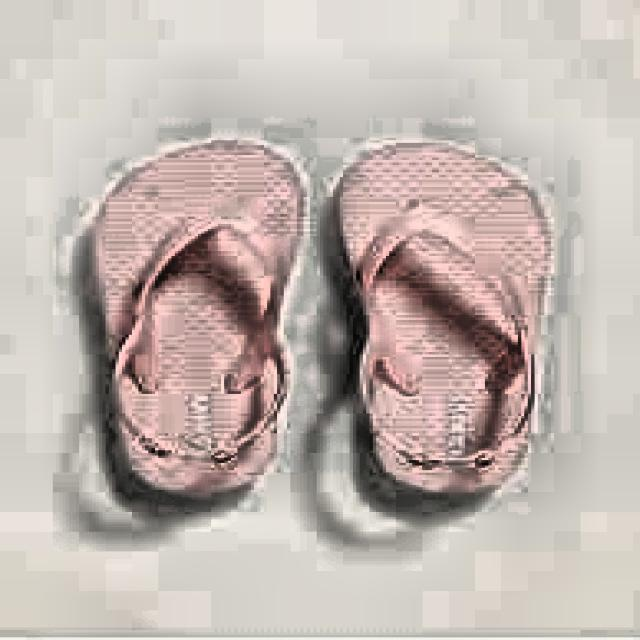shoes: (89, 139, 550, 502)
